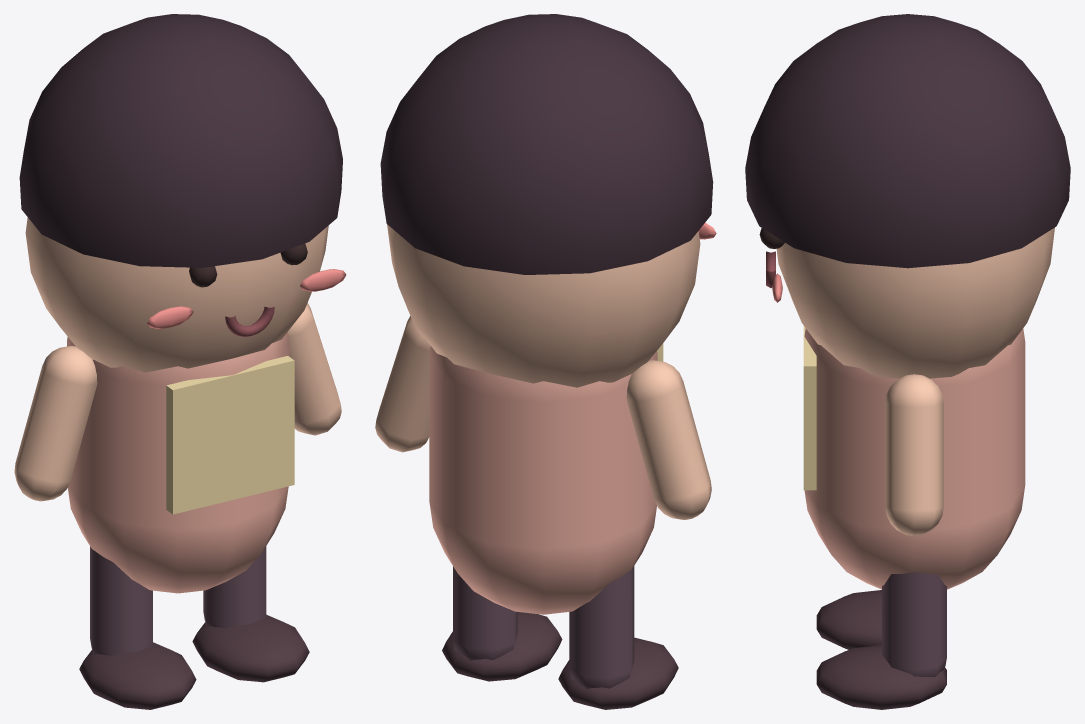
File: customer-cute-01.glb
3 views of the same model, side by side, from view 1: azimuth 30°, elevation 25°; view 2: azimuth 150°, elevation 25°; view 3: azimuth 270°, elevation 25° (orthographic). The views are drawn at different scales.
Bounding box in the file's own units: 1.13 × 2.18 × 0.9983.
